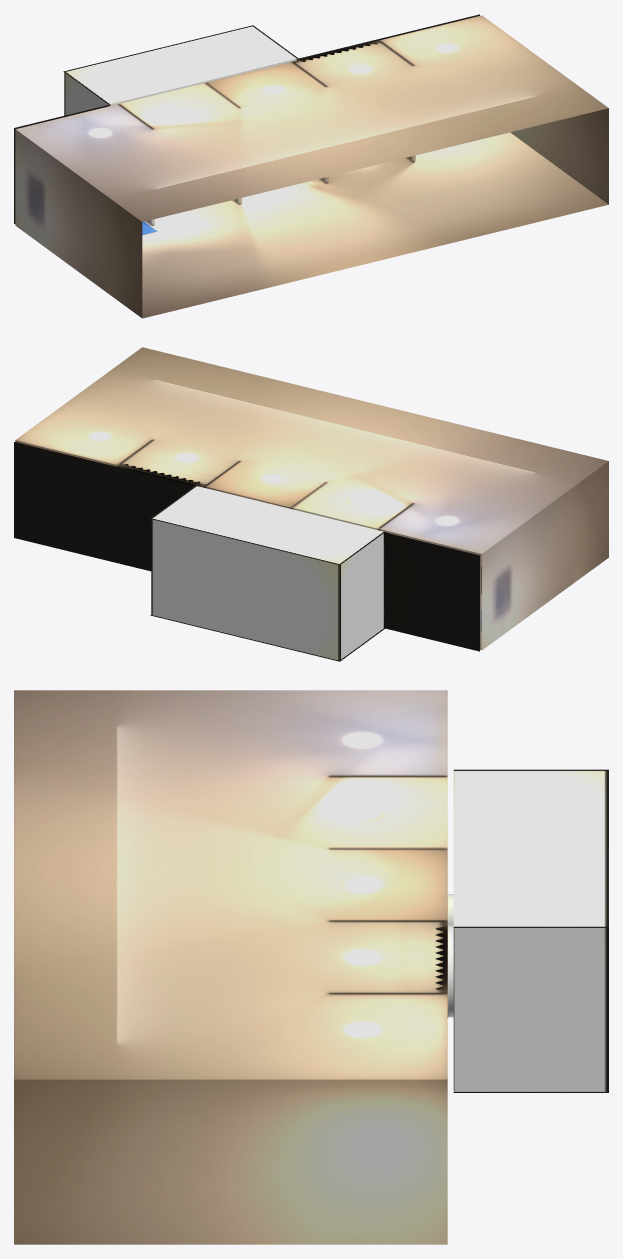
File: studio.glb
3 views of the same model, one above another, from view 1: azimuth 30°, elevation 25°; view 2: azimuth 150°, elevation 25°; view 3: azimuth 270°, elevation 25° (orthographic). The views are drawn at different scales.
Parts seen in each view (by area): view 1: sala; view 2: sala; view 3: sala.
Part boxes in pixels (x1,y1,x2,y2): sala: (14,14,608,318); sala: (14,347,608,661); sala: (14,690,608,1244).
Bounding box in the file's own units: 17.2 × 3.4 × 11.11.
Materials: 9 (6 with a texture image).
